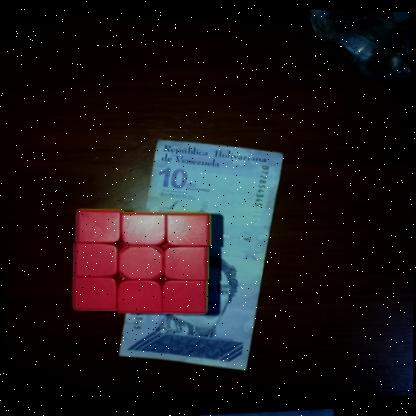ten-front-vef: (45, 113, 286, 297)
